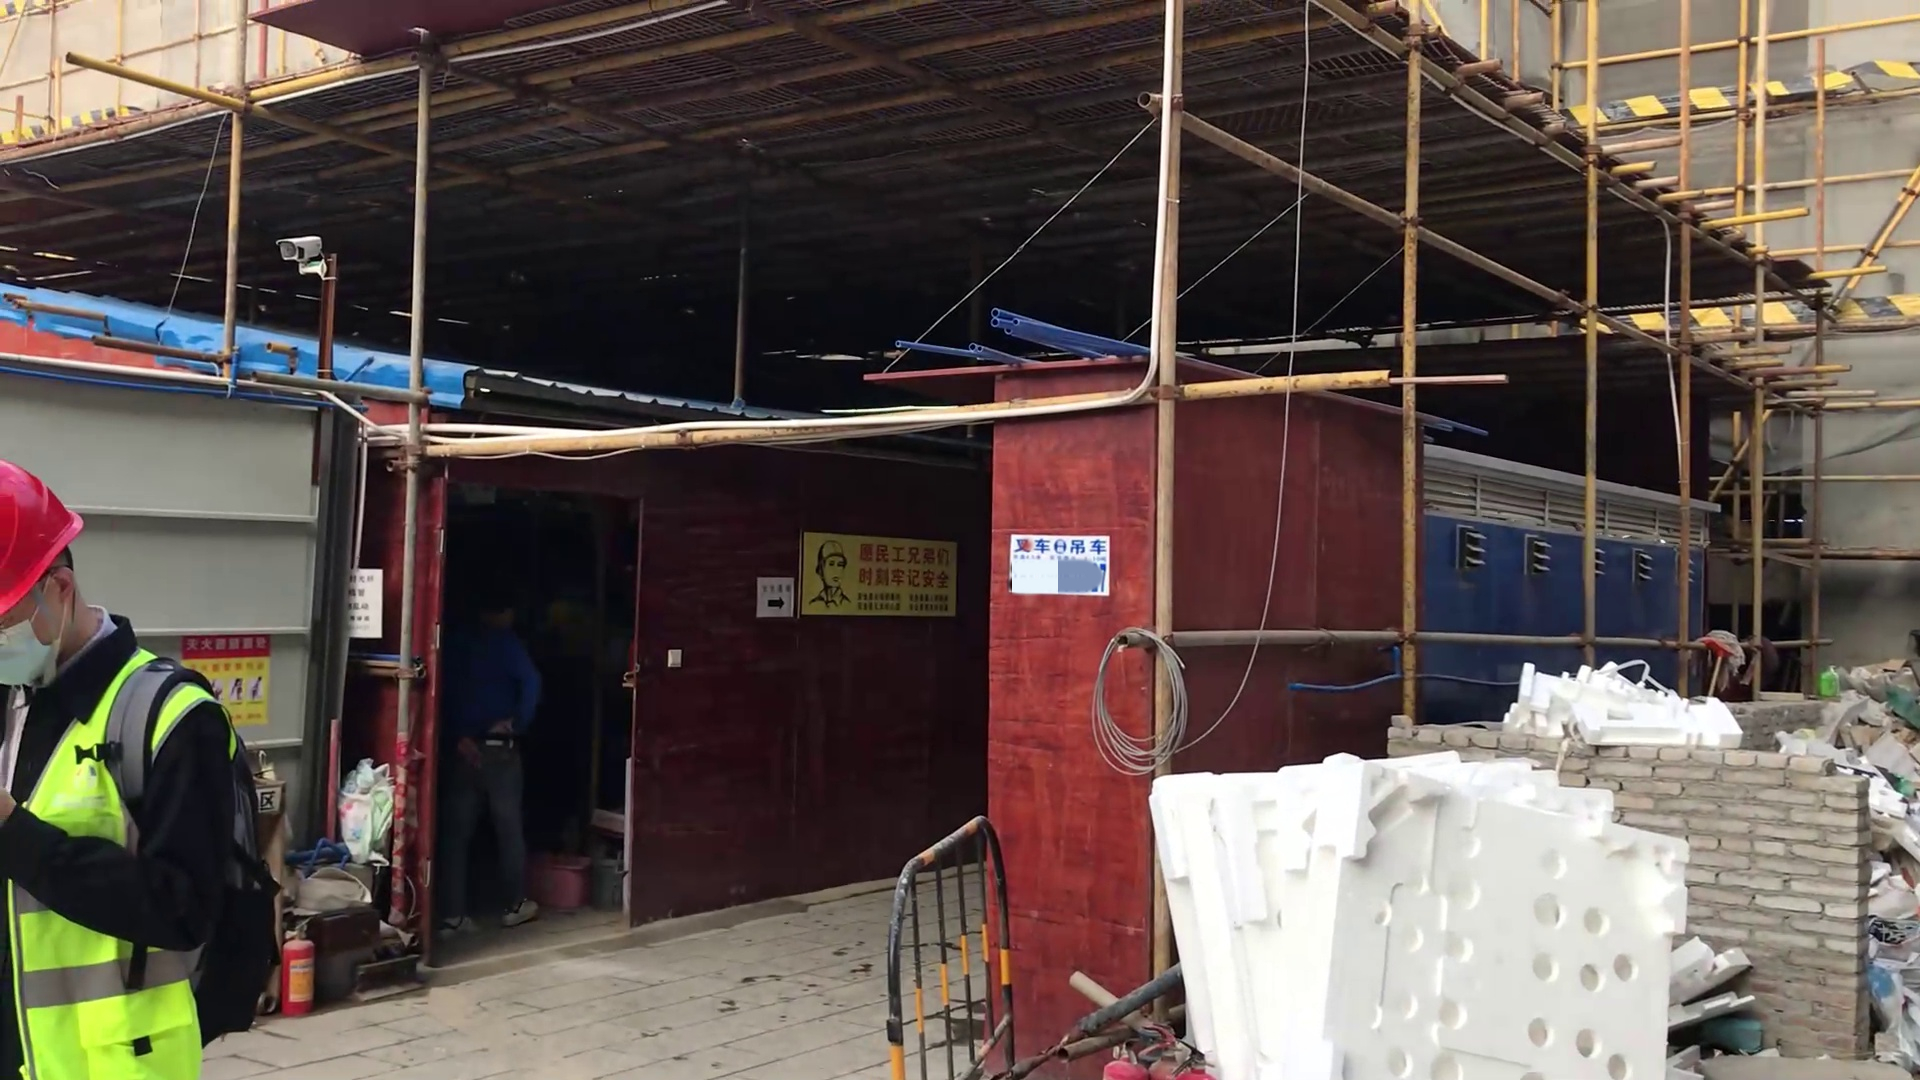helmet: (3, 454, 89, 628)
person: (4, 432, 263, 1080)
slogan: (796, 513, 969, 638)
vest: (6, 657, 223, 1078)
